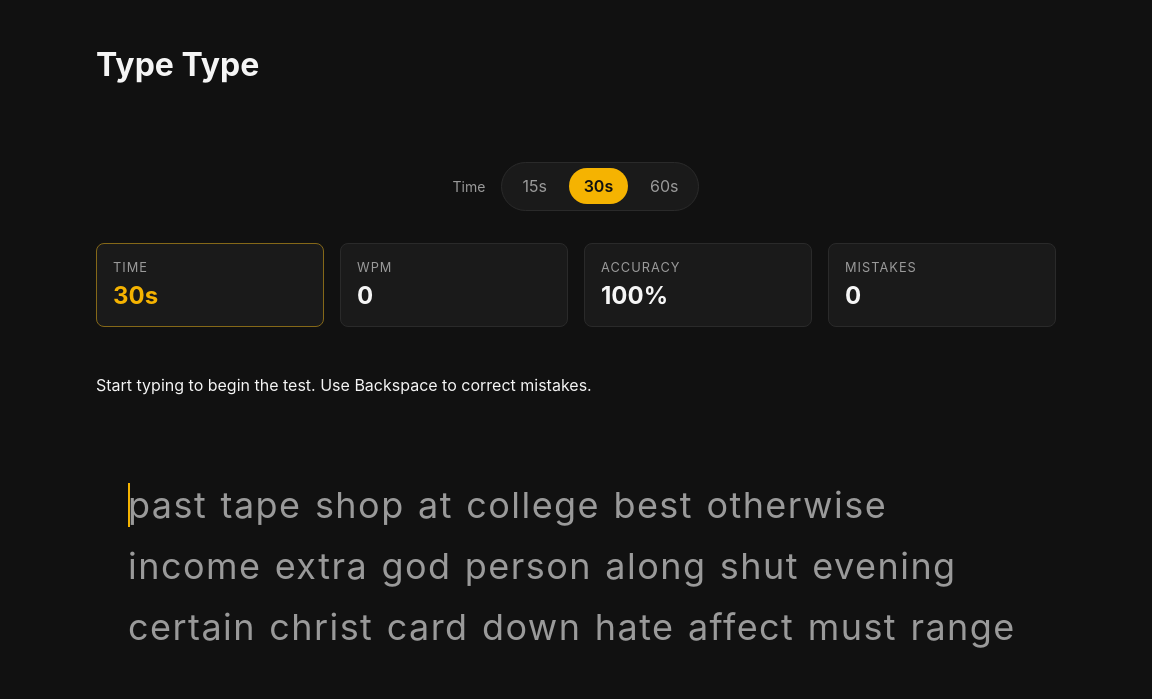
Test: App › allows the user to change the test duration before typing starts
Click the button "60s" at (664, 186), box [636, 168, 693, 204]
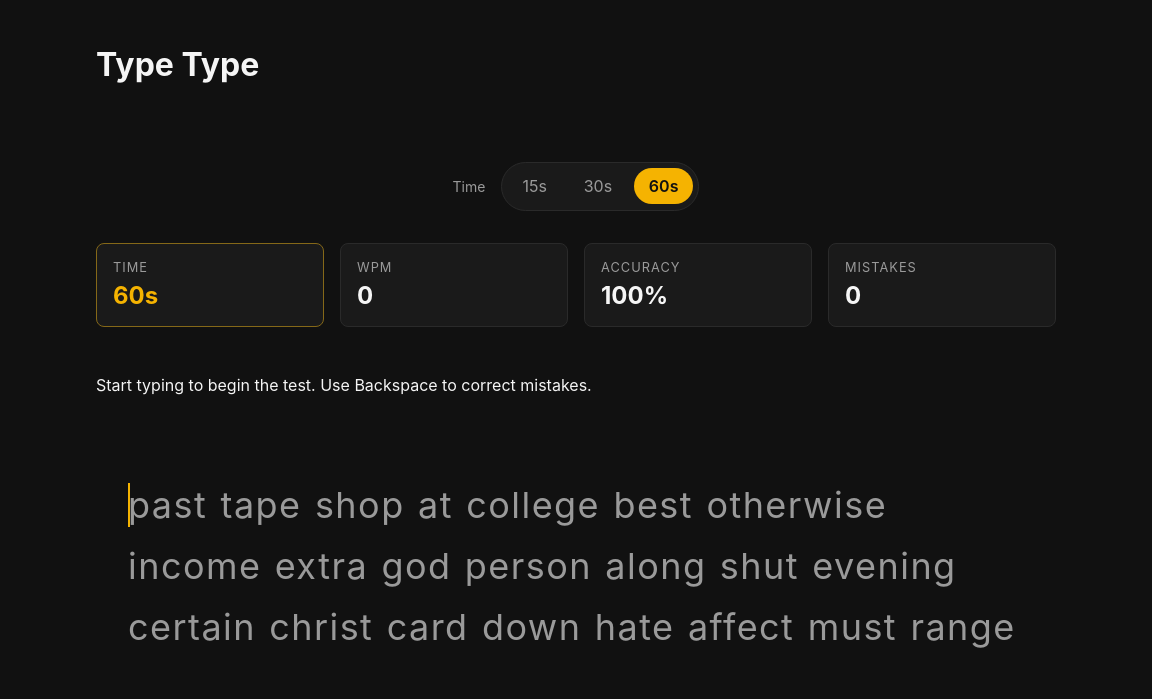
Result: the text "60s" is shown at [113, 281, 158, 310]
